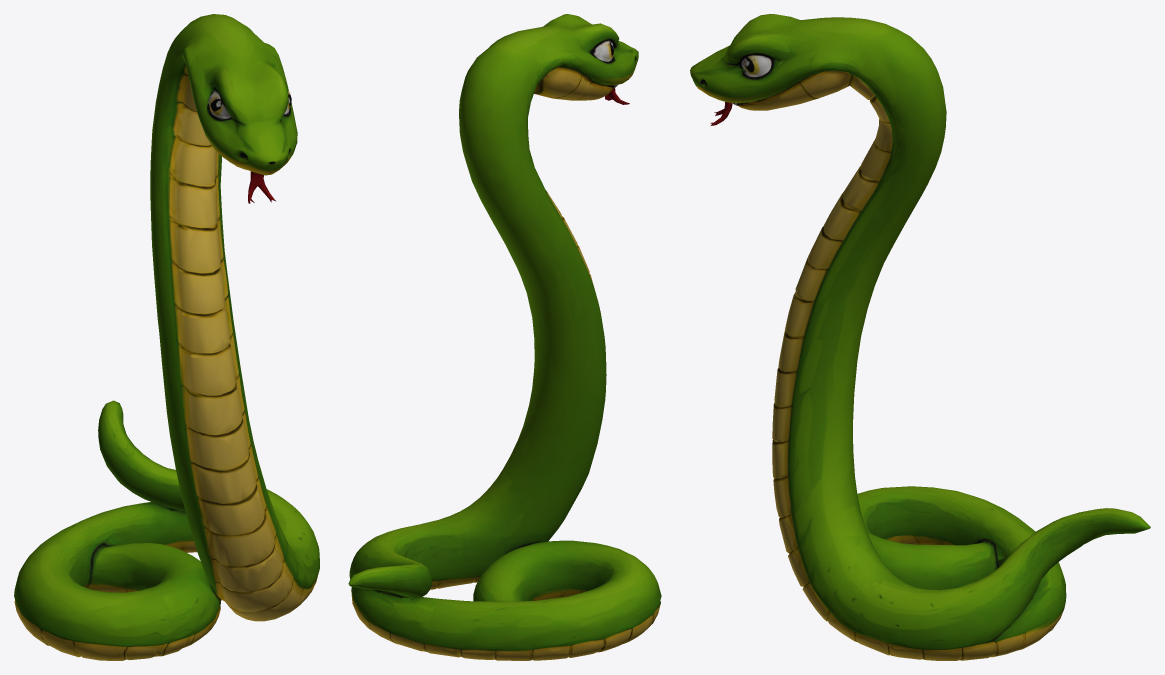
The model's file is snake.fbx.
3 renders of one model, left to right at view 1: azimuth 30°, elevation 25°; view 2: azimuth 150°, elevation 25°; view 3: azimuth 270°, elevation 25°, orthographic. The views are drawn at different scales.
Visible parts, largest first — view 1: tripo_node_bfc1fec6; view 2: tripo_node_bfc1fec6; view 3: tripo_node_bfc1fec6.
Boxes of the visible parts, left/top/right/bottom form: tripo_node_bfc1fec6: left=14, top=14, right=319, bottom=660; tripo_node_bfc1fec6: left=348, top=14, right=661, bottom=660; tripo_node_bfc1fec6: left=690, top=14, right=1150, bottom=660.
Bounding box in the file's own units: 50.63 × 70.81 × 100.
1 material, 1 textured.
